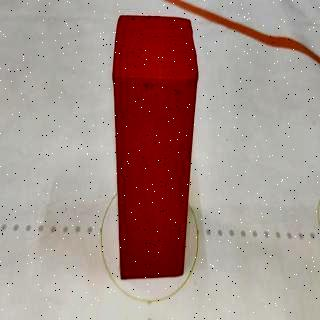redbox: (112, 13, 198, 282)
